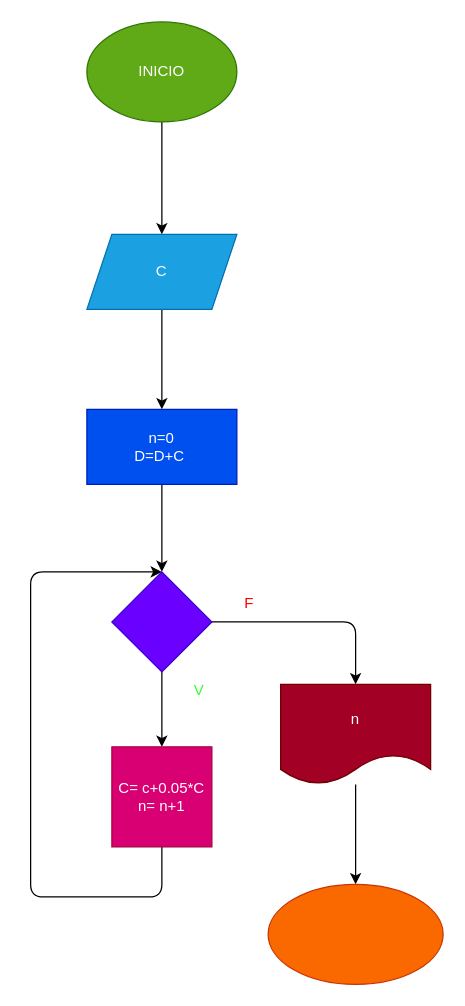
The diagram is 465 pixels wide and 1006 high, and some of its shapes have lost their labels. The shapes that lost their labels are listed below. From the top down, each one's centre as x and y in pixels, then its label:
At (161,621): "i<=C".
At (355,933): "FIN".
